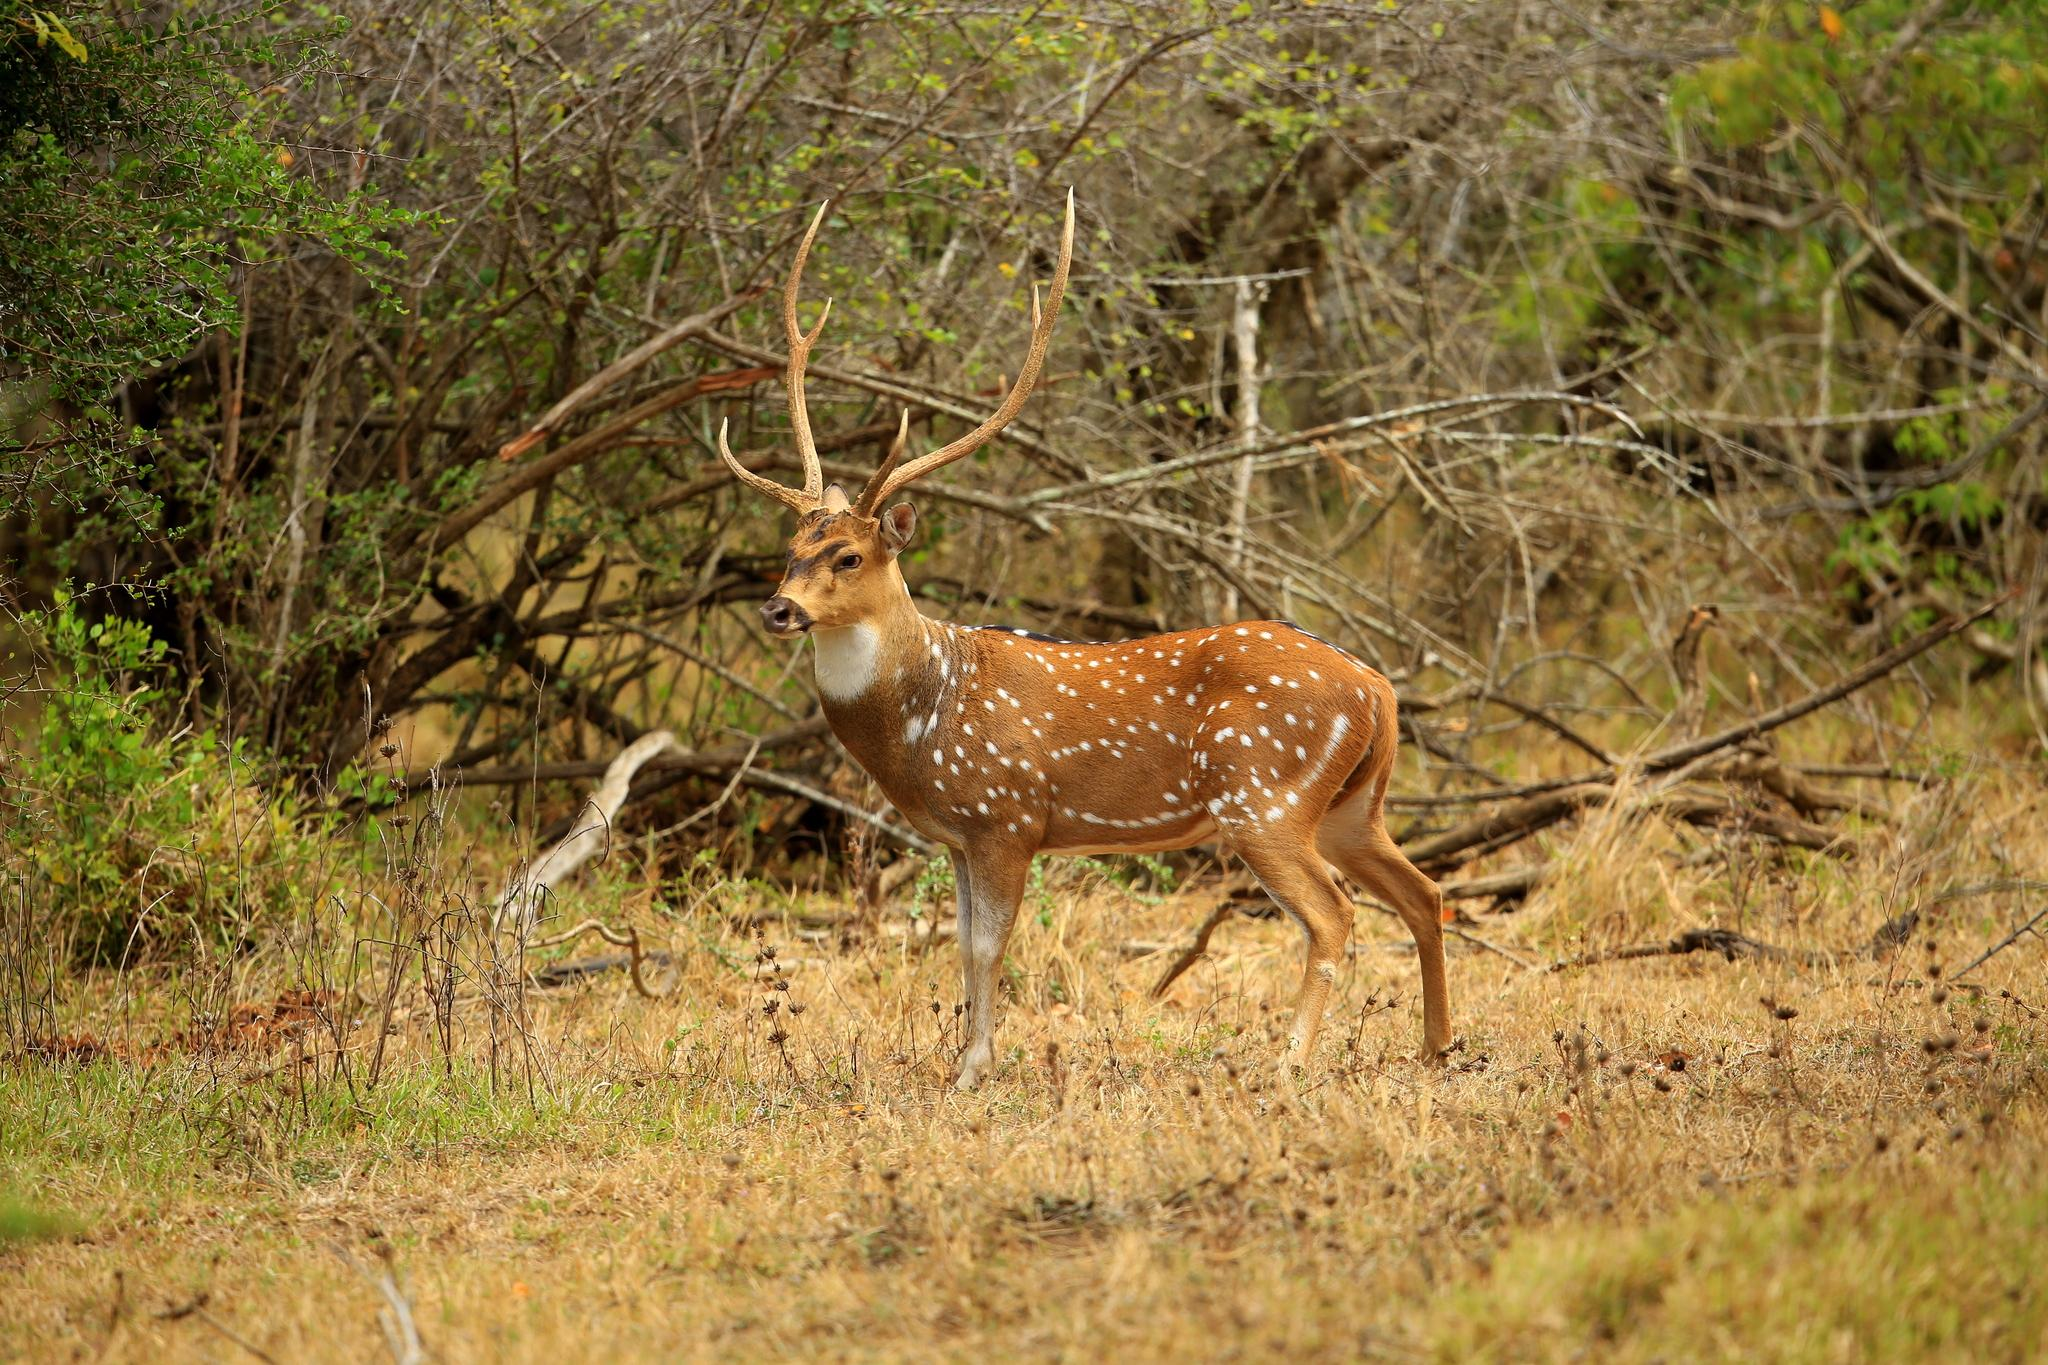Deer: (719, 200, 1451, 1085)
